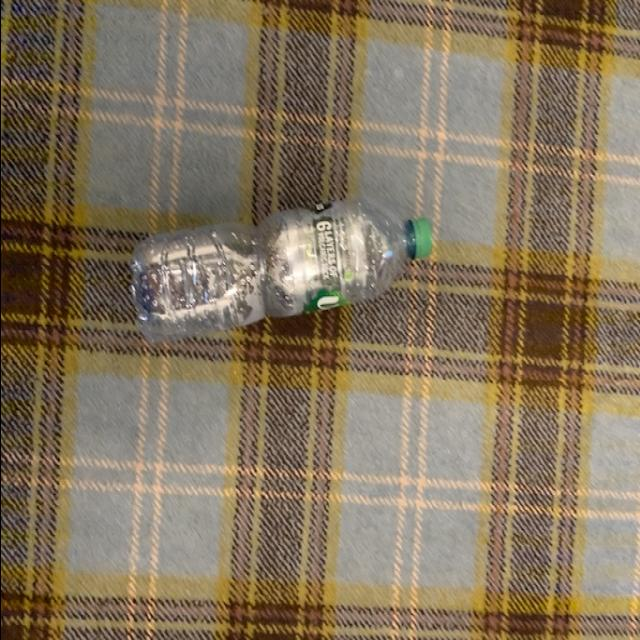PET: (124, 195, 433, 346)
